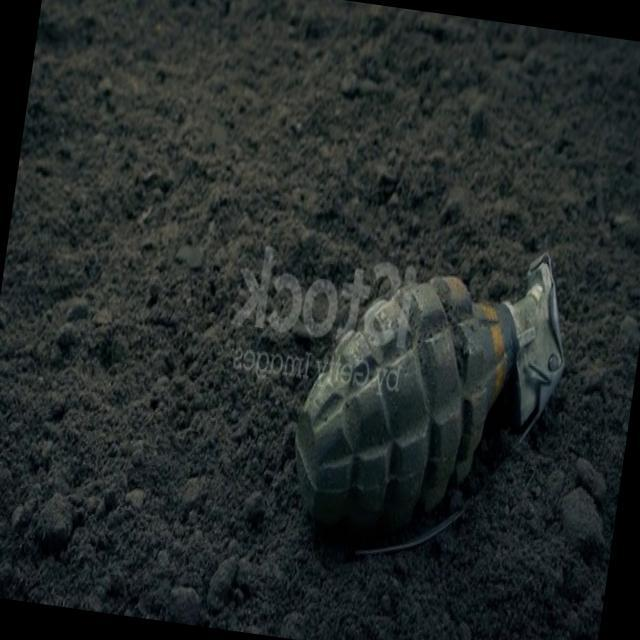grenade: (278, 224, 577, 583)
